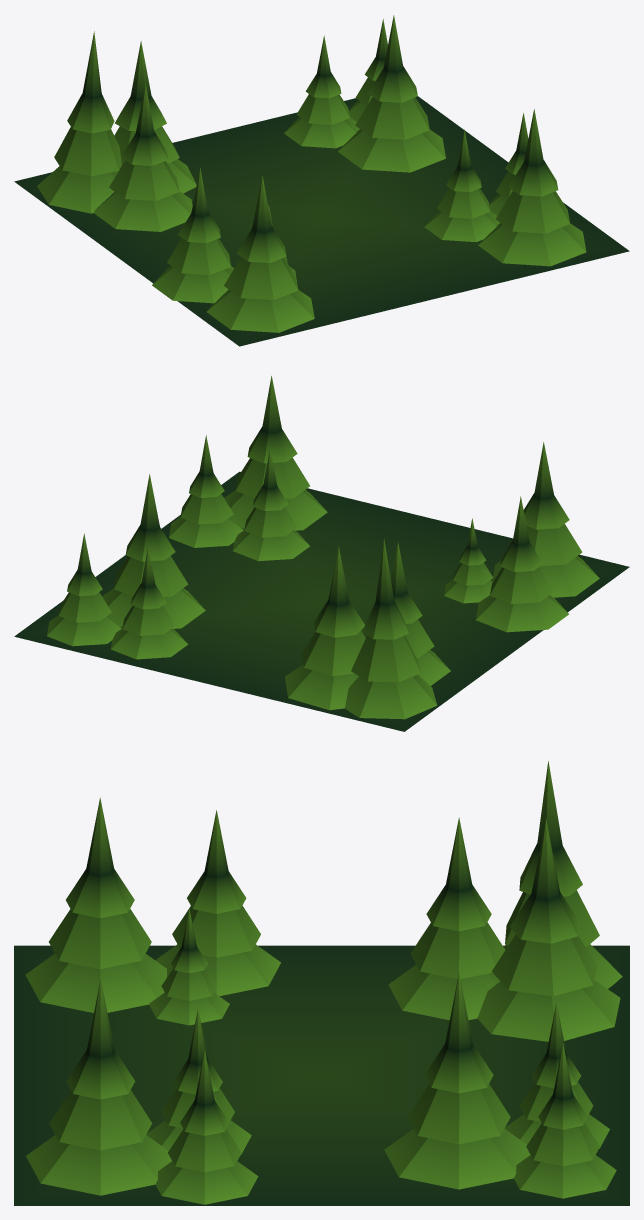
File: terrain_forest.fbx
The picture shows the model from 3 angles, top to bottom: view 1: azimuth 30°, elevation 25°; view 2: azimuth 150°, elevation 25°; view 3: azimuth 270°, elevation 25°; orthographic projection. The views are drawn at different scales.
Visible parts, largest first — view 1: polySurface23; view 2: polySurface23; view 3: polySurface23.
Boxes of the visible parts, x1,y1,x2,y2 form: polySurface23: (14, 15, 629, 346); polySurface23: (14, 376, 629, 731); polySurface23: (14, 761, 629, 1205).
Bounding box in the file's own units: 10.08 × 3.96 × 10.
